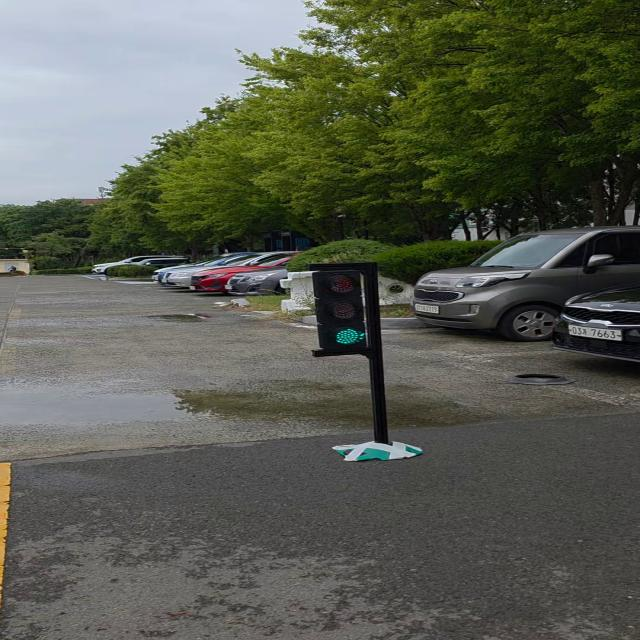green: (311, 264, 379, 355)
